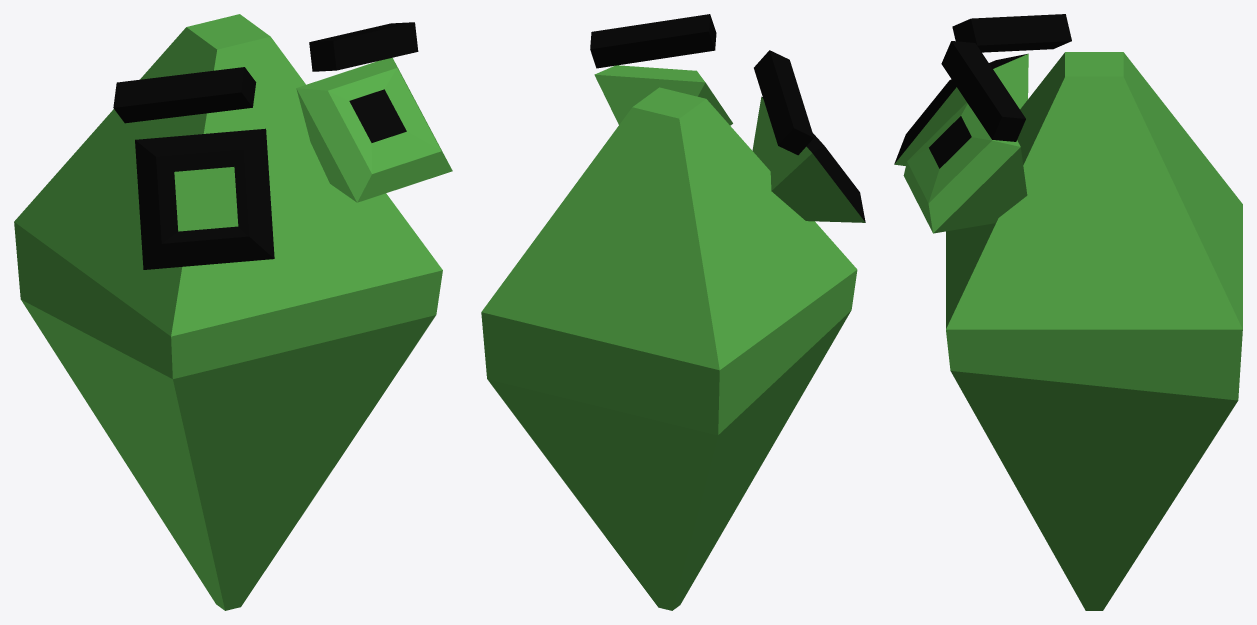
The model's file is player_one_green.glb.
The picture shows the model from 3 angles, left to right: view 1: azimuth 30°, elevation 25°; view 2: azimuth 150°, elevation 25°; view 3: azimuth 270°, elevation 25°; orthographic projection. The views are drawn at different scales.
Visible parts, largest first — view 1: player_one_green; view 2: player_one_green; view 3: player_one_green.
Boxes of the visible parts, x1,y1,x2,y2 form: player_one_green: (14,14,452,610); player_one_green: (481,14,865,610); player_one_green: (894,14,1242,610).
Bounding box in the file's own units: 1.08 × 2.15 × 1.17.
